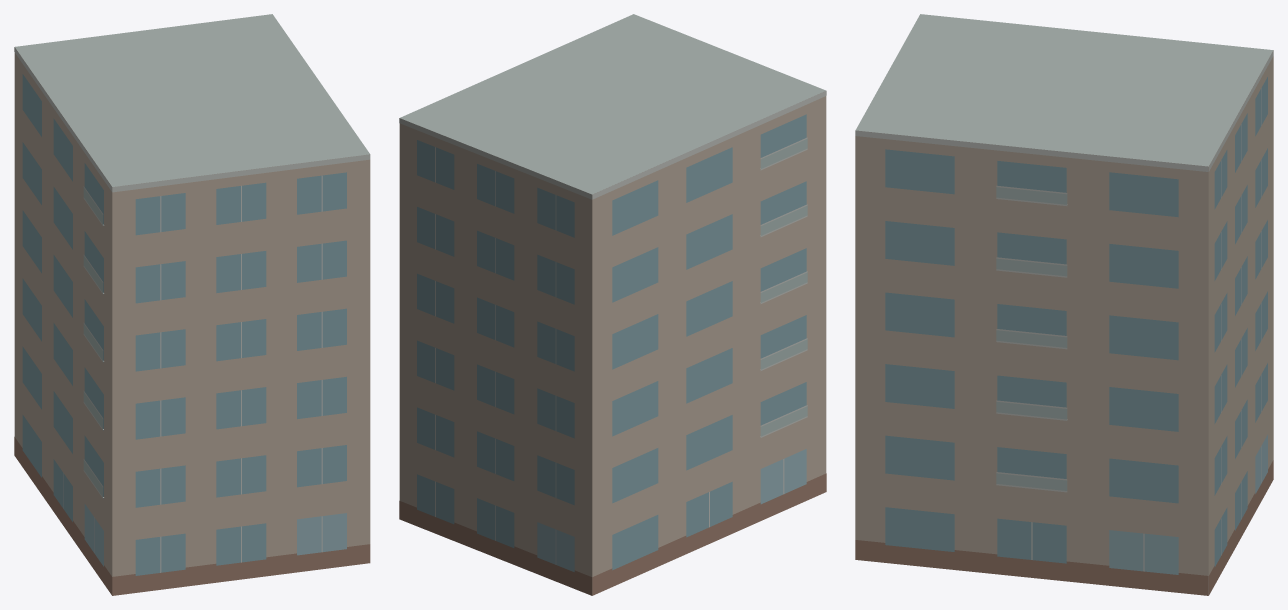
The model's file is survey-upis-32527668.glb.
3 renders of one model, left to right at view 1: azimuth 30°, elevation 25°; view 2: azimuth 150°, elevation 25°; view 3: azimuth 270°, elevation 25°, orthographic. The views are drawn at different scales.
Visible parts, largest first — view 1: survey-upis-32527668.tmp; view 2: survey-upis-32527668.tmp; view 3: survey-upis-32527668.tmp.
Boxes of the visible parts, <box> form: survey-upis-32527668.tmp: <box>14,14,370,595</box>; survey-upis-32527668.tmp: <box>399,14,826,595</box>; survey-upis-32527668.tmp: <box>855,14,1273,595</box>.
Size of the model in its own units: 14.33 by 18.8 by 16.6.
